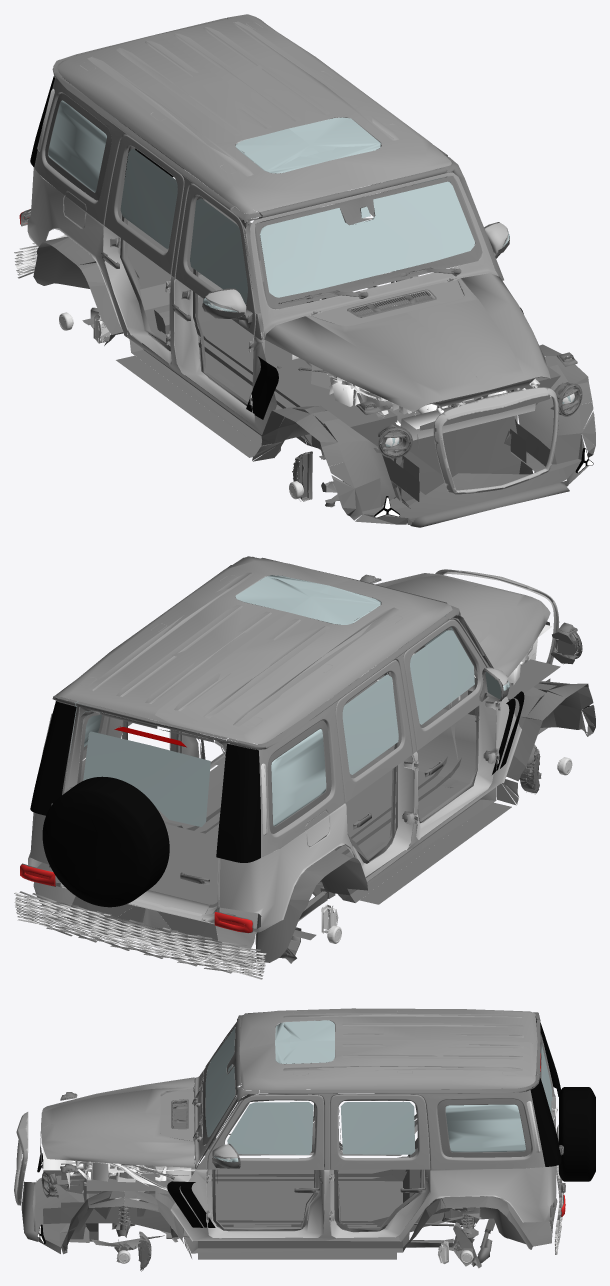
Rendered from stock-body.glb.
3 renders of one model, top to bottom at view 1: azimuth 30°, elevation 25°; view 2: azimuth 150°, elevation 25°; view 3: azimuth 270°, elevation 25°, orthographic. The views are drawn at different scales.
Parts seen in each view (by area): view 1: Group, Group_71, Group_72, Group_63.001, Group_26, Group_64, Group_26.003, Group_26.002, Group.009, Group_59, Group_61, Group_56 (+13 smaller); view 2: Group_71, Group, Group_26, запаска.003, бочина. зад.001, Cube.004, Group_72, Group_62.001, Group_26.002, Group_64, Group_65, Group_59 (+10 smaller); view 3: Group, Group_71, Group_26, Group_72, Group_26.002, Group_58, Group_60, Group_65, запаска.003, Group_4.001, Group_2.002, Group_64 (+15 smaller).
Boxes of the visible parts, bbox=[...] form: Group: bbox=[33, 117, 595, 527]; Group_71: bbox=[57, 16, 452, 214]; Group_72: bbox=[264, 273, 550, 412]; Group_63.001: bbox=[260, 181, 474, 297]; Group_26: bbox=[27, 148, 457, 434]; Group_64: bbox=[235, 117, 380, 173]; Group_26.003: bbox=[250, 172, 498, 340]; Group_26.002: bbox=[34, 78, 482, 340]; Group.009: bbox=[255, 176, 482, 309]; Group_59: bbox=[190, 198, 247, 304]; Group_61: bbox=[120, 149, 177, 249]; Group_56: bbox=[292, 354, 550, 447]; Group_71: bbox=[57, 556, 452, 743]; Group: bbox=[33, 575, 595, 965]; Group_26: bbox=[28, 696, 521, 932]; запаска.003: bbox=[42, 776, 169, 907]; бочина. зад.001: bbox=[30, 701, 260, 862]; Cube.004: bbox=[14, 891, 266, 979]; Group_72: bbox=[375, 573, 550, 677]; Group_62.001: bbox=[83, 731, 210, 826]; Group_26.002: bbox=[56, 617, 488, 857]; Group_64: bbox=[235, 575, 380, 624]; Group_65: bbox=[68, 701, 326, 826]; Group_59: bbox=[410, 630, 474, 724]; Group: bbox=[21, 1020, 557, 1268]; Group_71: bbox=[239, 1008, 537, 1089]; Group_26: bbox=[171, 1023, 556, 1241]; Group_72: bbox=[41, 1077, 195, 1167]; Group_26.002: bbox=[196, 1020, 554, 1169]; Group_58: bbox=[227, 1102, 313, 1154]; Group_60: bbox=[340, 1102, 415, 1154]; Group_65: bbox=[445, 1104, 525, 1152]; запаска.003: bbox=[559, 1087, 595, 1181]; Group_4.001: bbox=[330, 1094, 430, 1169]; Group_2.002: bbox=[207, 1072, 324, 1169]; Group_64: bbox=[275, 1020, 334, 1063].
Size of the model in its own units: 2.18 by 1.81 by 4.88.
